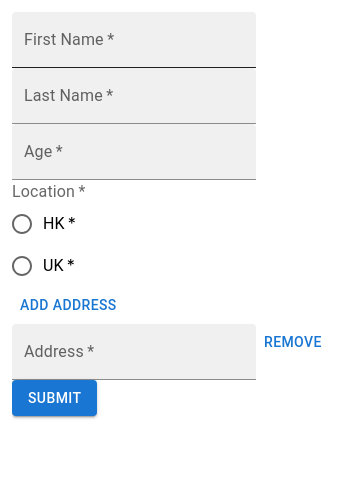
Test: CustomerForm › address section fieldarray functions properly
expect the field labelled "Address *" is shown: met, box top-left (12, 324), bottom-right (256, 380)
expect the button "Remove" is shown: met, box top-left (256, 324), bottom-right (330, 360)
Click the button "Add Address" at (68, 305), box top-left (12, 287), bottom-right (125, 324)
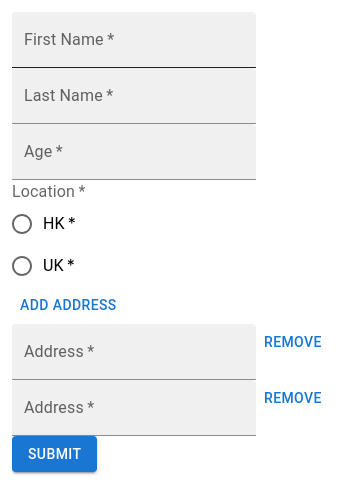
expect the 2nd field labelled "Address *" is shown: met, box top-left (12, 380), bottom-right (256, 436)
expect the 2nd button "Remove" is shown: met, box top-left (256, 380), bottom-right (330, 416)
Click the 1st button "Remove" at (293, 342), box top-left (256, 324), bottom-right (330, 360)
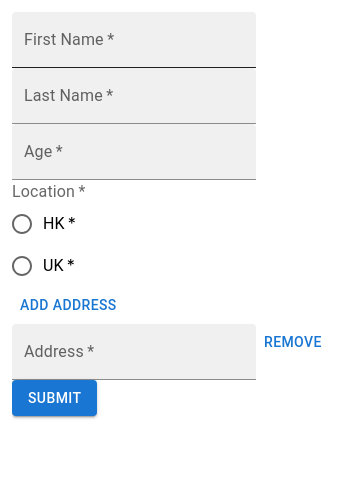
Click the button "Remove" at (293, 342), box top-left (256, 324), bottom-right (330, 360)
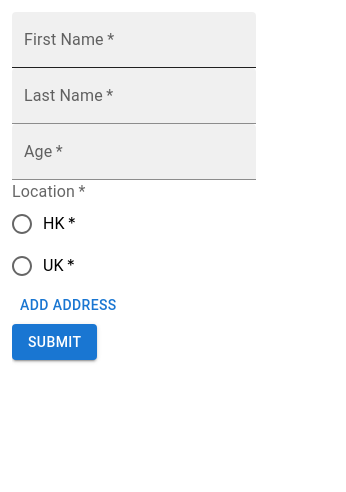
expect the button "Remove" is gone: met
